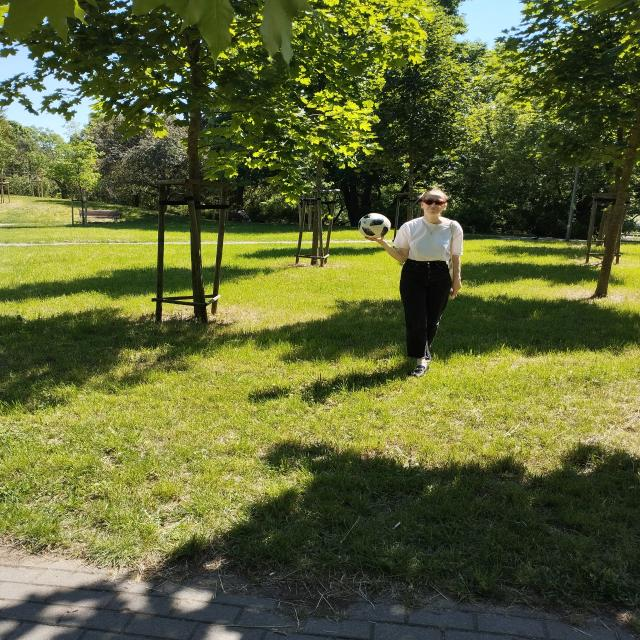nozna: (358, 213, 391, 239)
